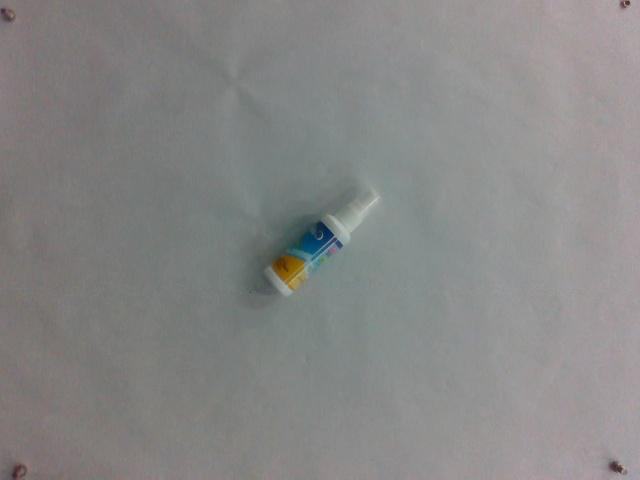detergent: (264, 187, 379, 302)
